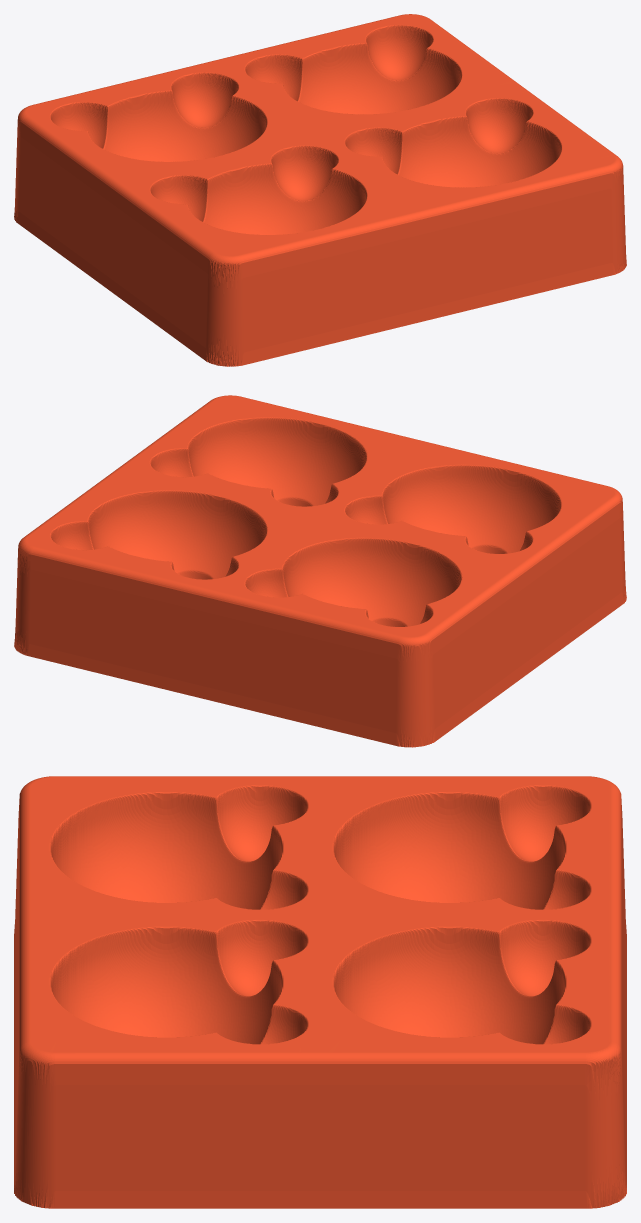
The model's file is mold.glb.
3 renders of one model, top to bottom at view 1: azimuth 30°, elevation 25°; view 2: azimuth 150°, elevation 25°; view 3: azimuth 270°, elevation 25°, orthographic. The views are drawn at different scales.
Visible parts, largest first — view 1: geometry_0; view 2: geometry_0; view 3: geometry_0.
Boxes of the visible parts, box(x1,y1,x2,y2) form: geometry_0: box(14, 14, 626, 366); geometry_0: box(14, 395, 626, 747); geometry_0: box(14, 776, 626, 1208).
Size of the model in its own units: 0.1493 by 0.036 by 0.1338.
